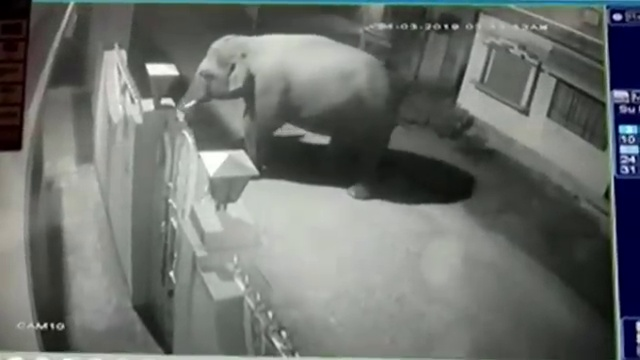Elephant: (178, 33, 397, 201)
